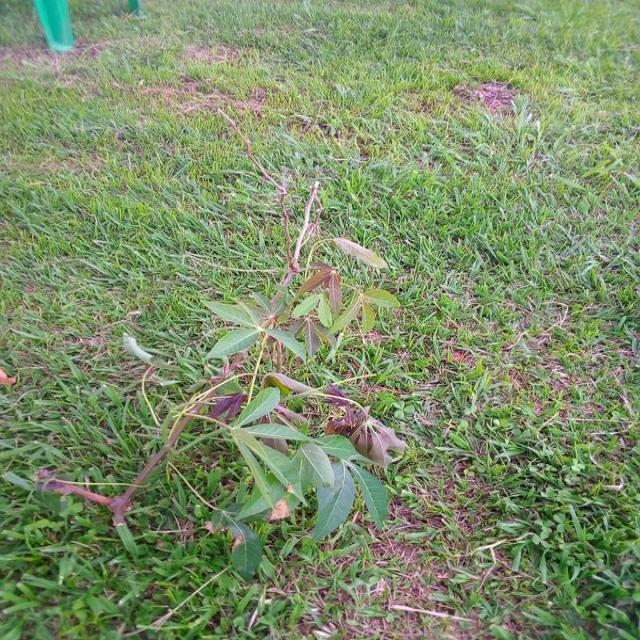cassava leaf: (312, 461, 355, 542)
